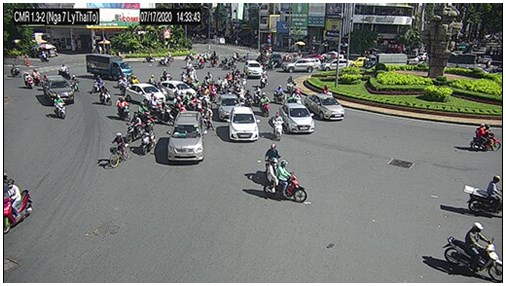xe_dap: (108, 130, 131, 170)
xe_hoi: (165, 111, 205, 164), (227, 106, 259, 142), (306, 93, 344, 121), (282, 104, 314, 134), (126, 82, 166, 106), (215, 94, 243, 122), (279, 58, 315, 73), (321, 58, 351, 72), (244, 59, 262, 79)
xe_may: (443, 219, 501, 282), (264, 158, 307, 204), (2, 180, 32, 235), (466, 176, 502, 217), (467, 122, 501, 153), (141, 120, 155, 156), (126, 113, 142, 143), (156, 101, 174, 126), (269, 112, 284, 141), (114, 96, 131, 121), (132, 101, 152, 122), (97, 84, 113, 106), (52, 94, 65, 119), (203, 106, 216, 131), (258, 92, 270, 117), (186, 97, 201, 114), (57, 63, 71, 80), (272, 85, 285, 103), (91, 75, 104, 93), (40, 75, 51, 94), (242, 89, 253, 107), (10, 61, 21, 78), (22, 72, 33, 89), (157, 54, 171, 67), (208, 82, 217, 102), (173, 100, 184, 116), (259, 71, 269, 88), (72, 72, 80, 92), (287, 75, 297, 91), (141, 52, 155, 63), (120, 76, 128, 95), (201, 85, 209, 104), (291, 89, 301, 104), (218, 54, 227, 70), (160, 69, 171, 81), (40, 49, 49, 63), (184, 54, 192, 69), (197, 54, 205, 69), (189, 67, 198, 79), (209, 55, 216, 67)
xe_tai: (85, 53, 134, 80), (363, 52, 406, 68)
